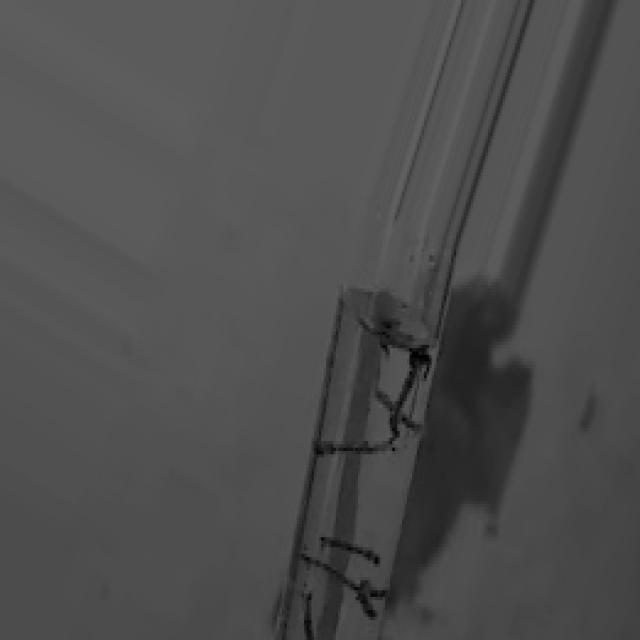larvas: (301, 546, 360, 599), (386, 361, 418, 442), (375, 384, 421, 437), (320, 535, 381, 569), (314, 441, 388, 458), (359, 578, 376, 616), (302, 593, 314, 640), (410, 349, 430, 371)
